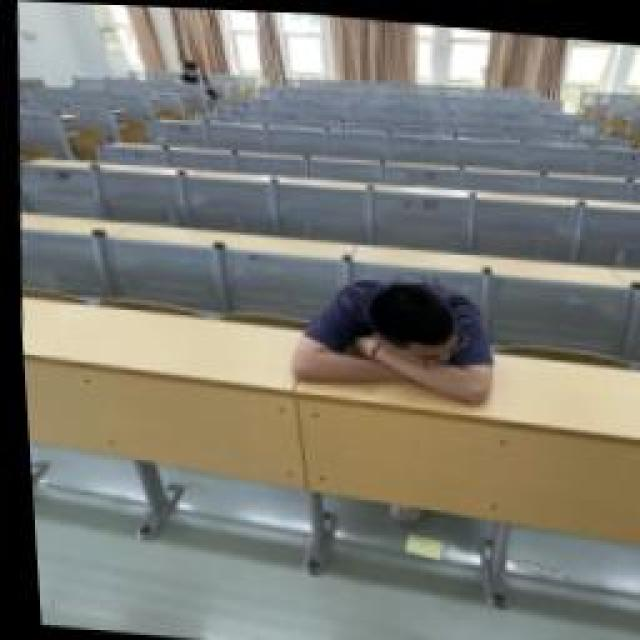sleep: (280, 265, 492, 403)
study: (177, 58, 205, 80)
